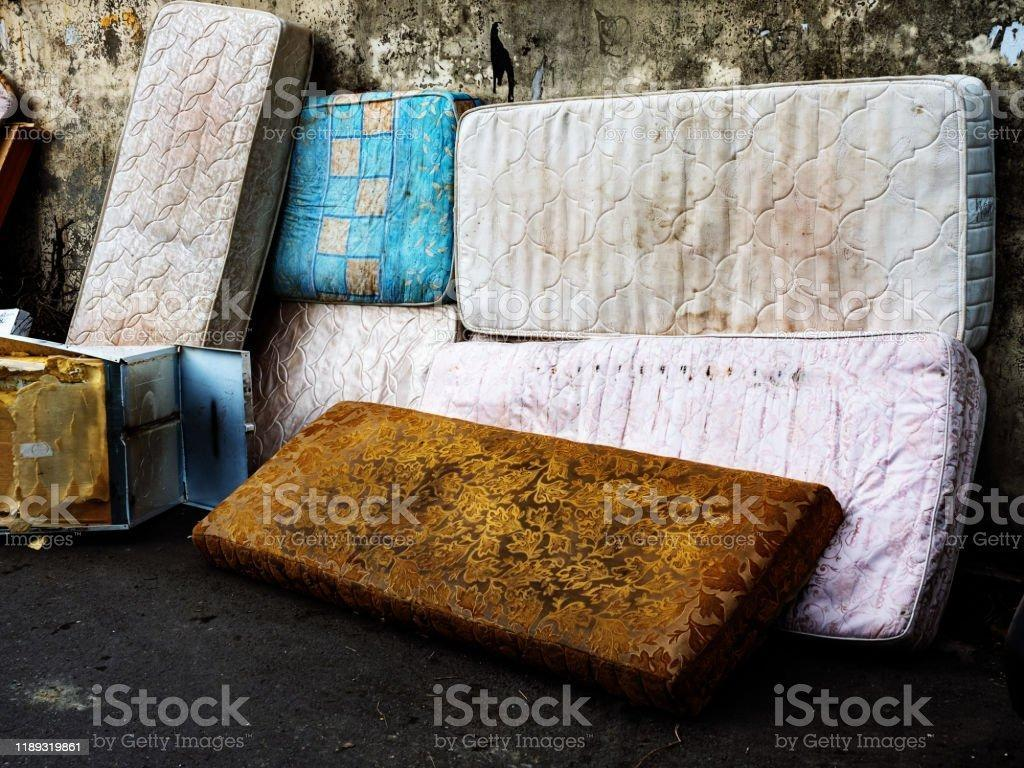Bed-Mattress: (193, 402, 844, 716), (420, 332, 986, 648), (455, 74, 997, 347), (66, 1, 312, 349), (270, 90, 476, 304), (249, 300, 460, 471)
